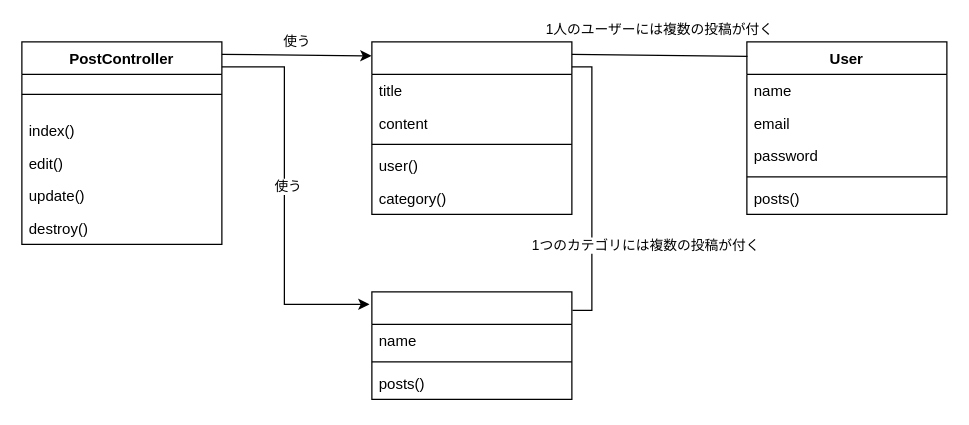
Image size: 969x425. Some labels were removed from this diagram. Here are the shapes that lost their labels. From the top down, the box of each, then its label:
(371, 41, 572, 214): Post
(371, 291, 572, 399): Category
